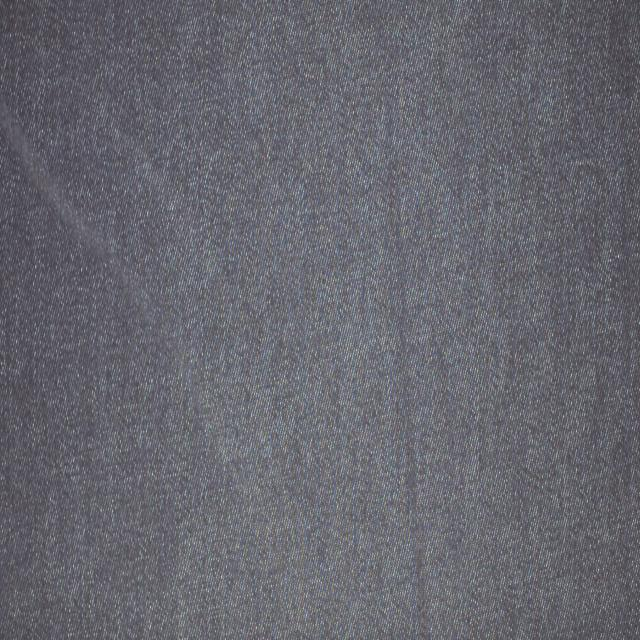Line: (379, 104, 434, 640)
